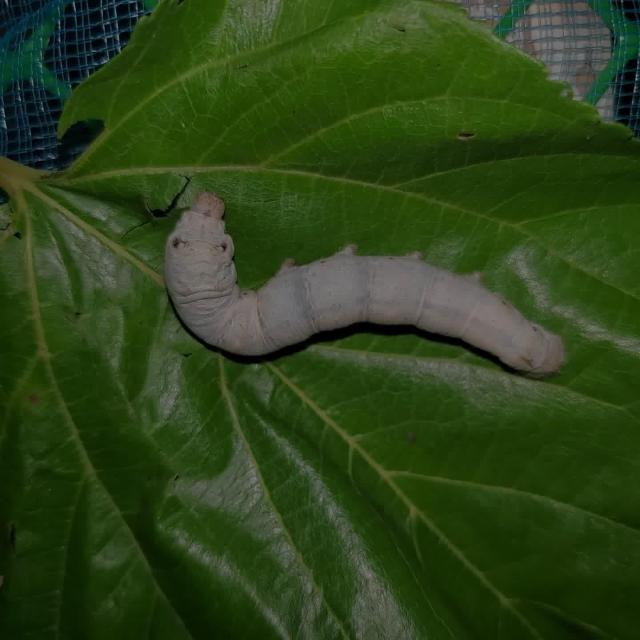Healthy: (153, 181, 577, 392)
